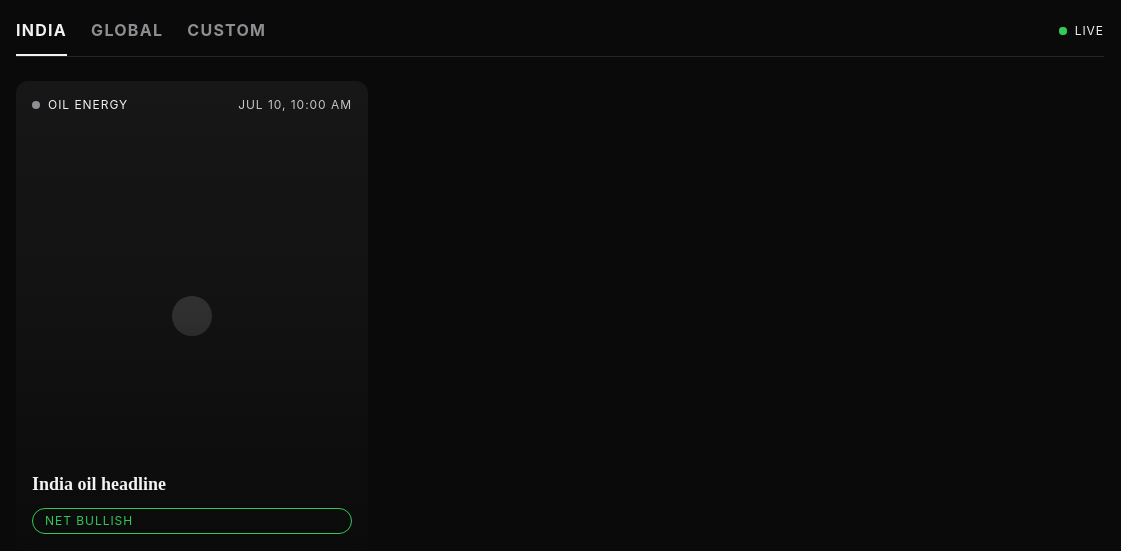
Feed › defaults to the India tab and switches to Global on click
Click the tab "Global" at (127, 37), box [91, 18, 163, 56]
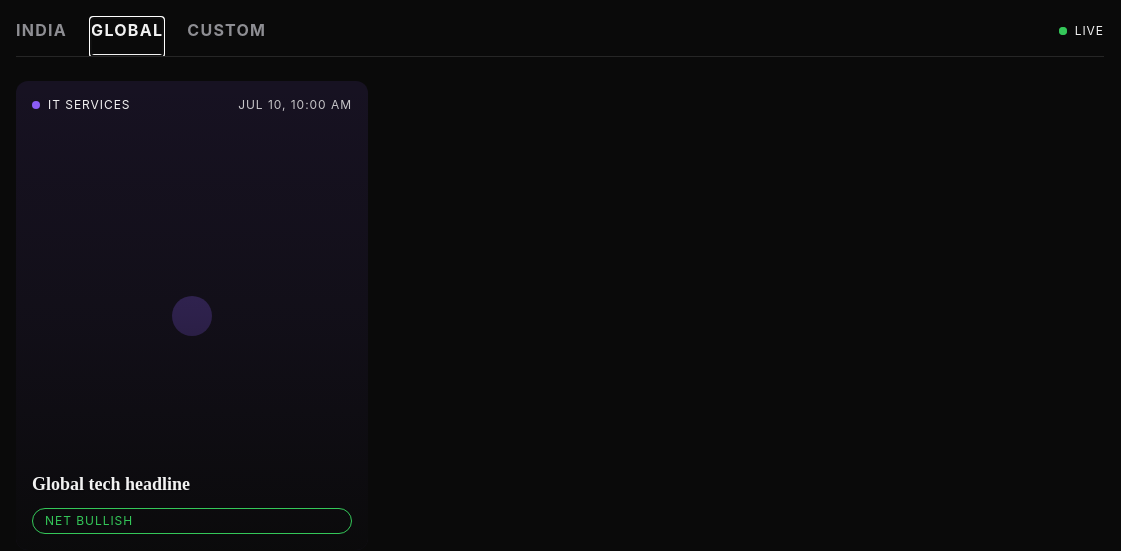
Expected: no buttons "India oil headline" are shown
